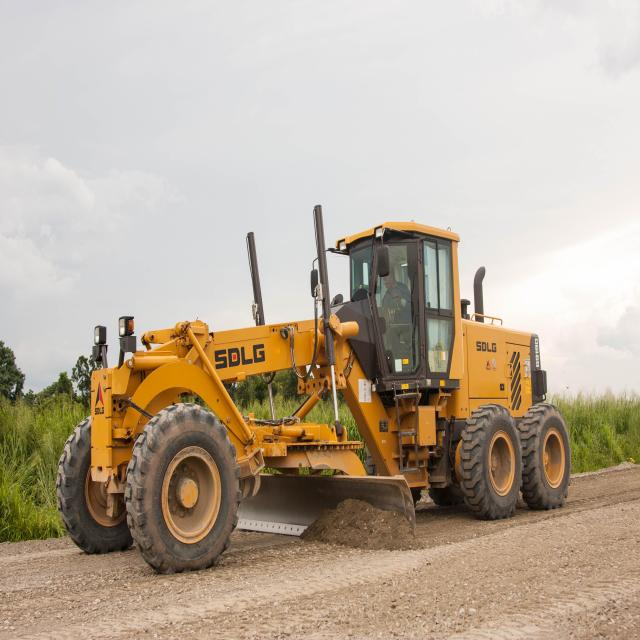buldozerpayloadergrader: (52, 194, 572, 567)
